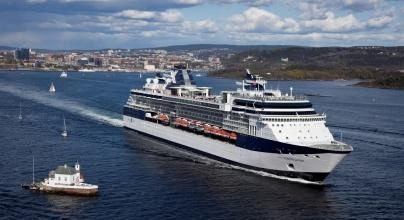otherboat: (27, 160, 98, 195)
youlun: (113, 55, 348, 183)
